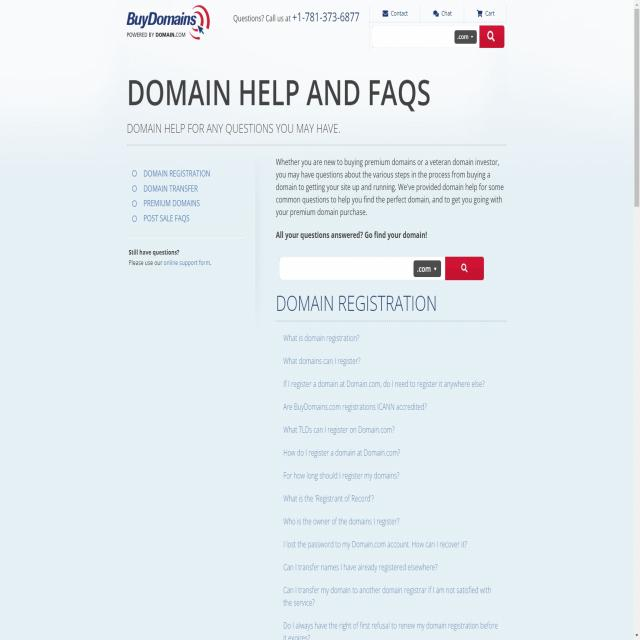search: (277, 248, 488, 286), (371, 21, 507, 50)
side-panel: (124, 158, 221, 272)
